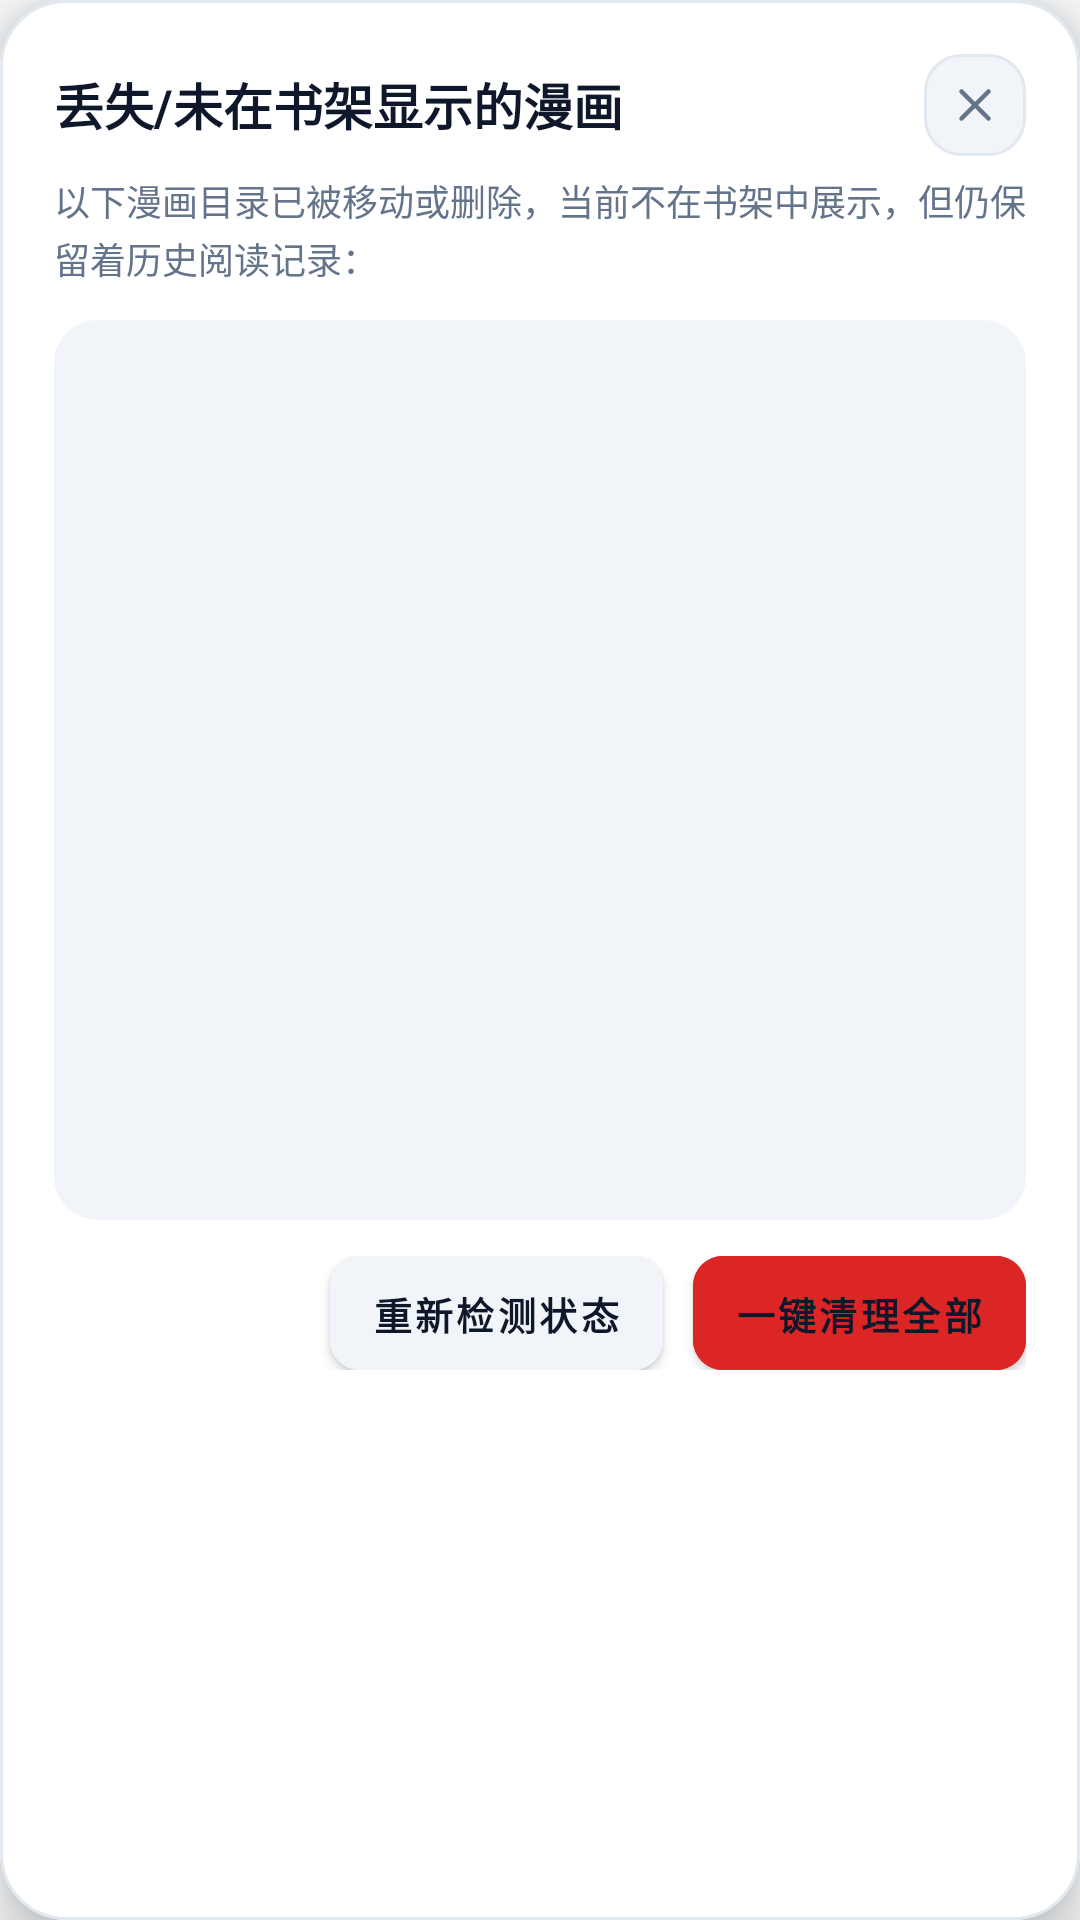

Screen size 1080px x 1920px. Icon name, then its box in pixels as (x1, y1, x2, y2):
close: (924, 54, 1026, 156)
